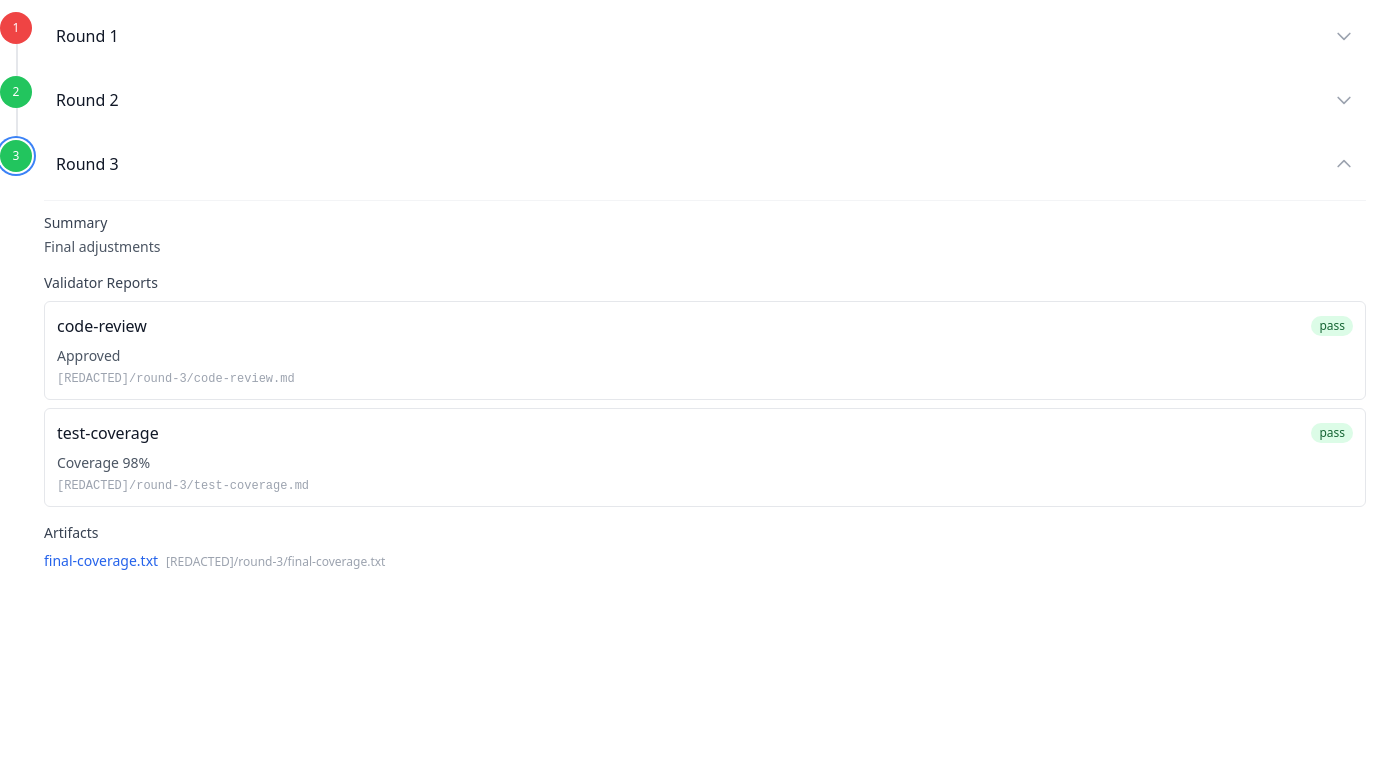
Scenario: RoundTimeline › Validator status › displays failure reason prominently
Expand Round 1
Click the button "Round 1" at [83, 36], box [44,12,1366,60]
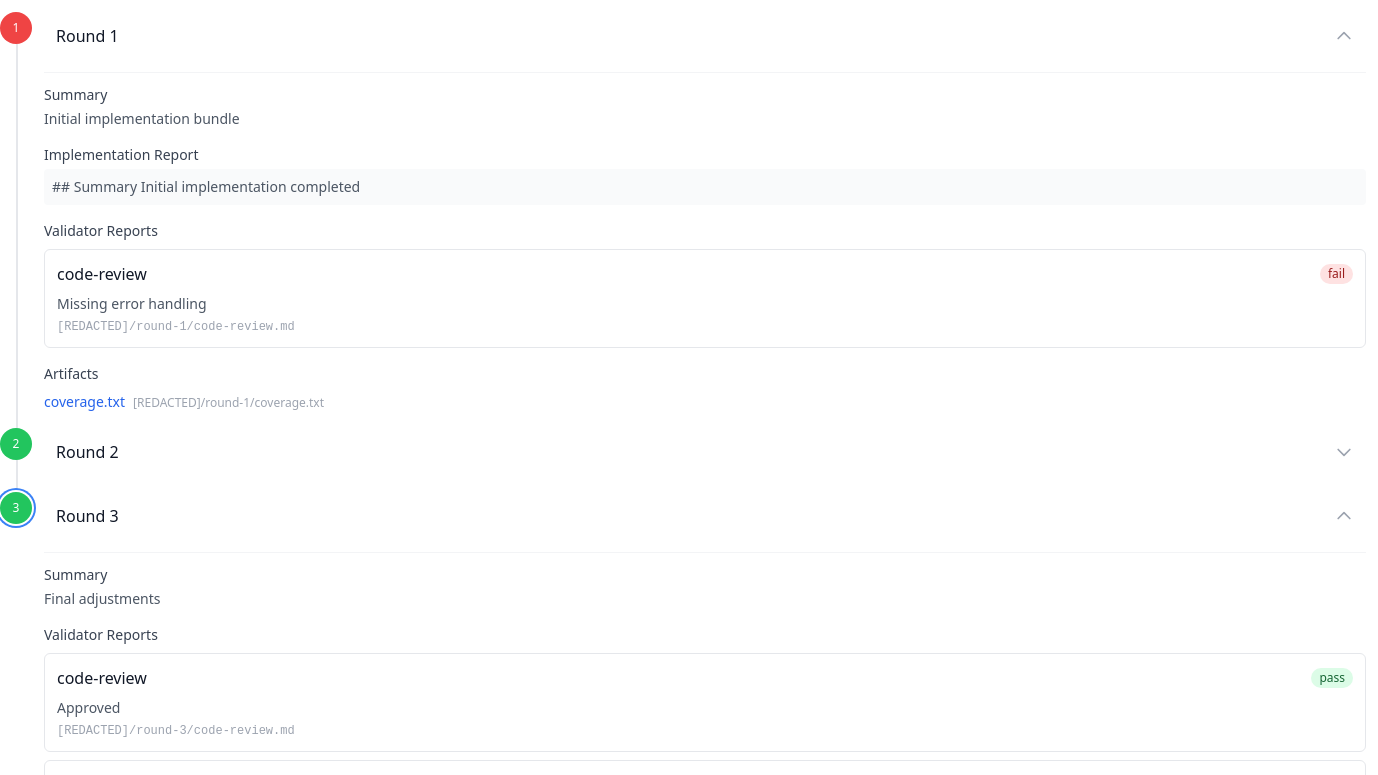
Check: the text "Missing error handling" is shown, box [57,294,207,313]
